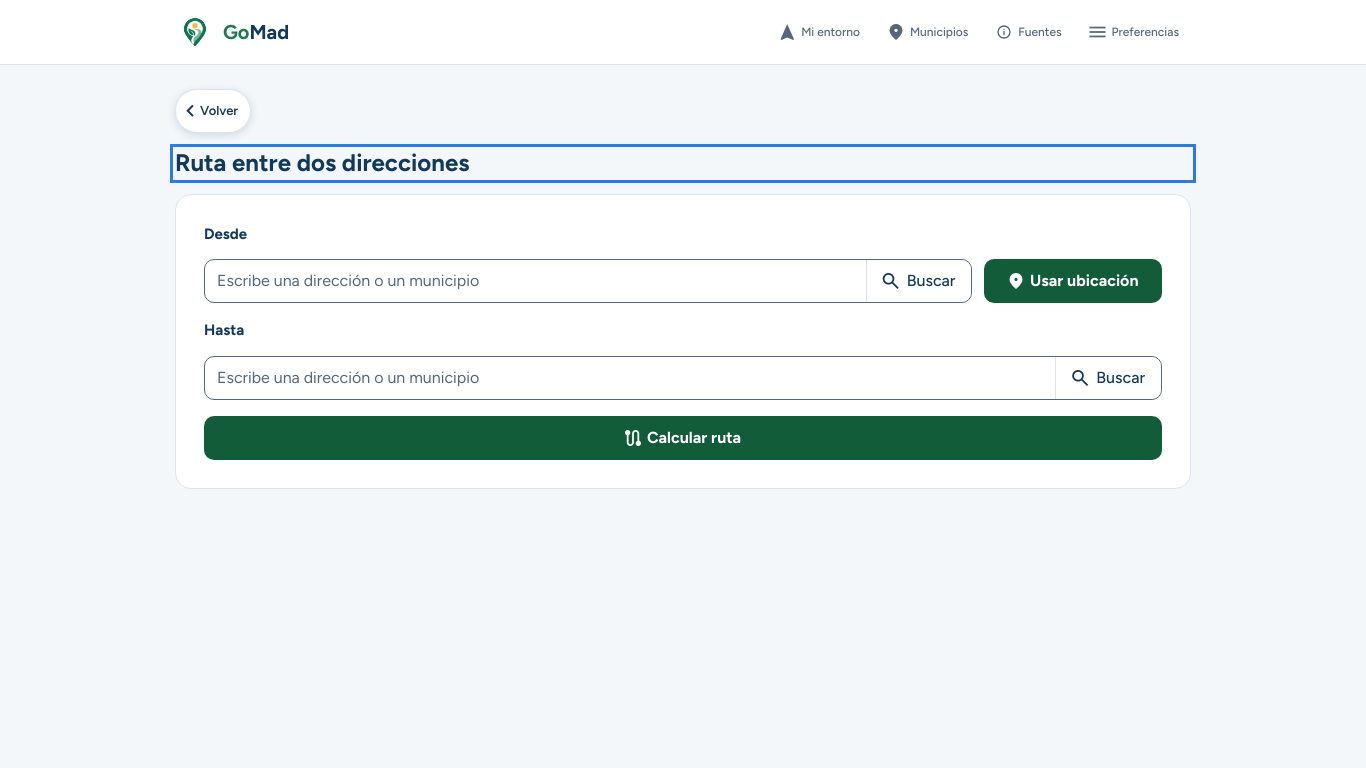
Test: Ruta entre dos direcciones › misma direccion no calcula ruta
The width and height of the screenshot is (1366, 768).
Type "getafe" into the field labelled "Desde" at (535, 281), box left=205, top=260, right=866, bottom=302
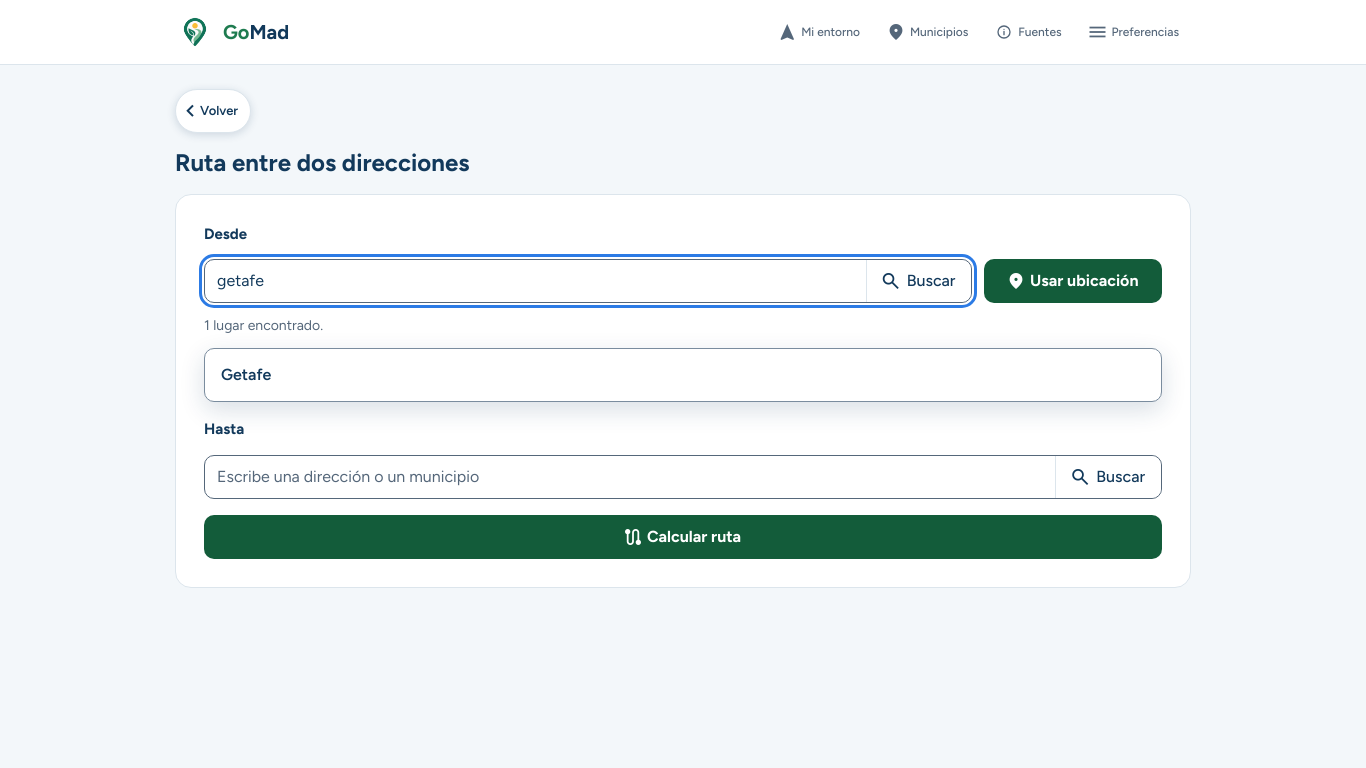
Click the button "Getafe" at (246, 375), box left=209, top=353, right=1157, bottom=397
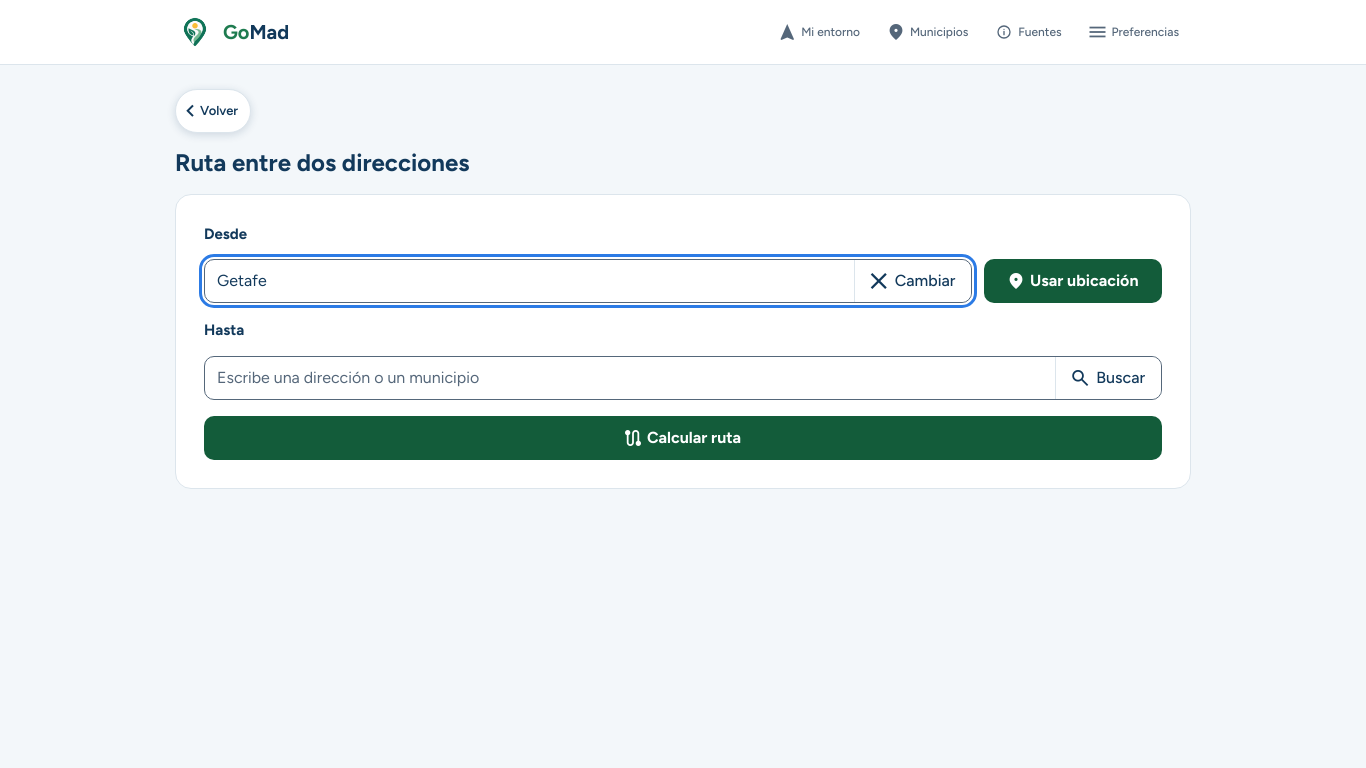
Type "getafe" into the field labelled "Hasta" at (630, 378), box left=205, top=357, right=1055, bottom=399
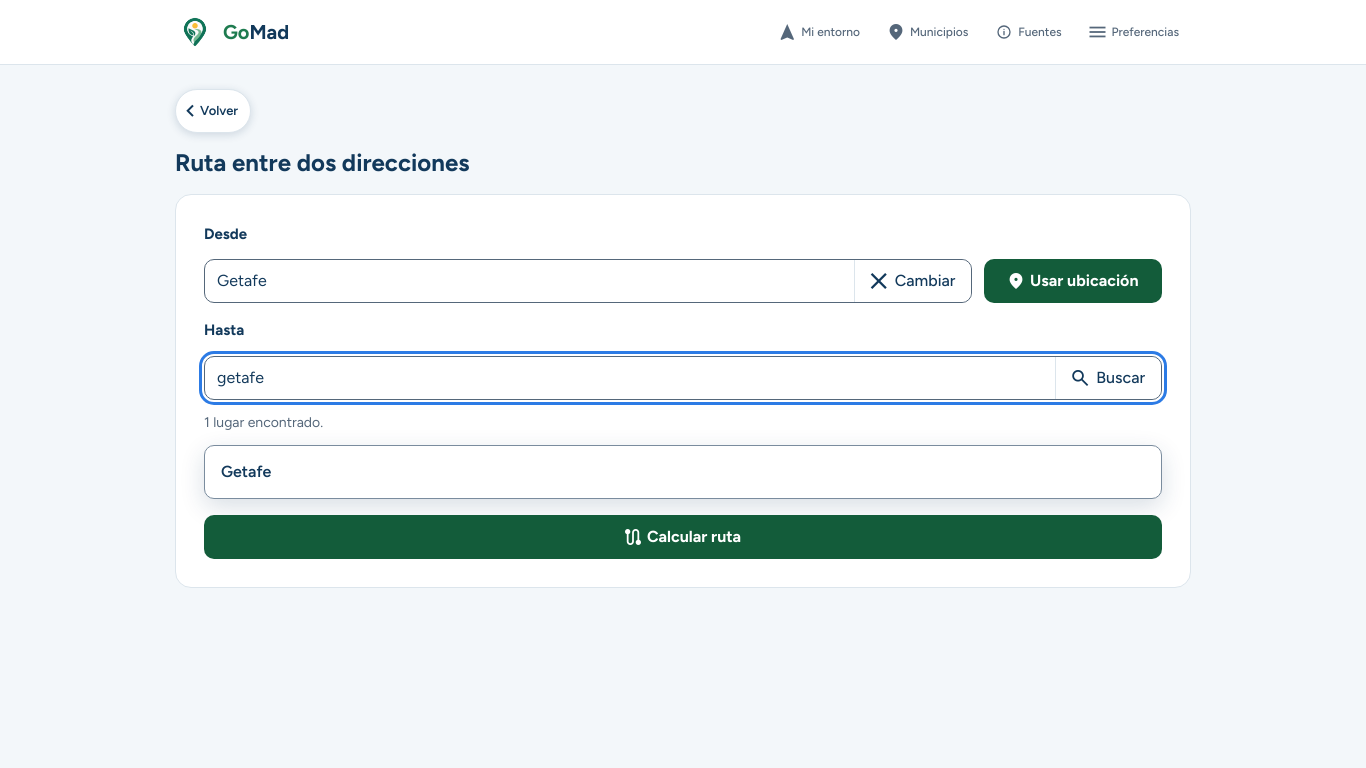
Click the button "Getafe" at (246, 471), box left=209, top=450, right=1157, bottom=494
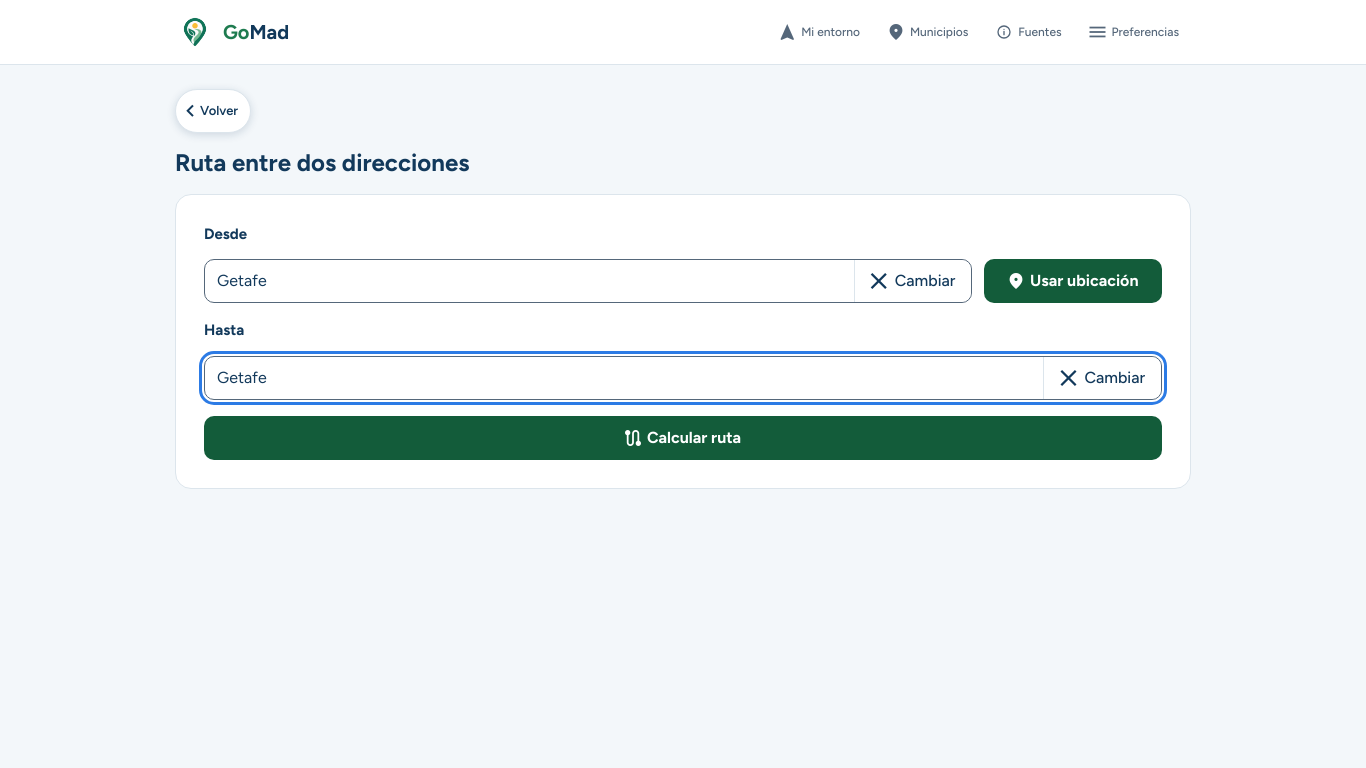
Click the button "Calcular ruta" at (683, 438), box left=204, top=416, right=1162, bottom=460
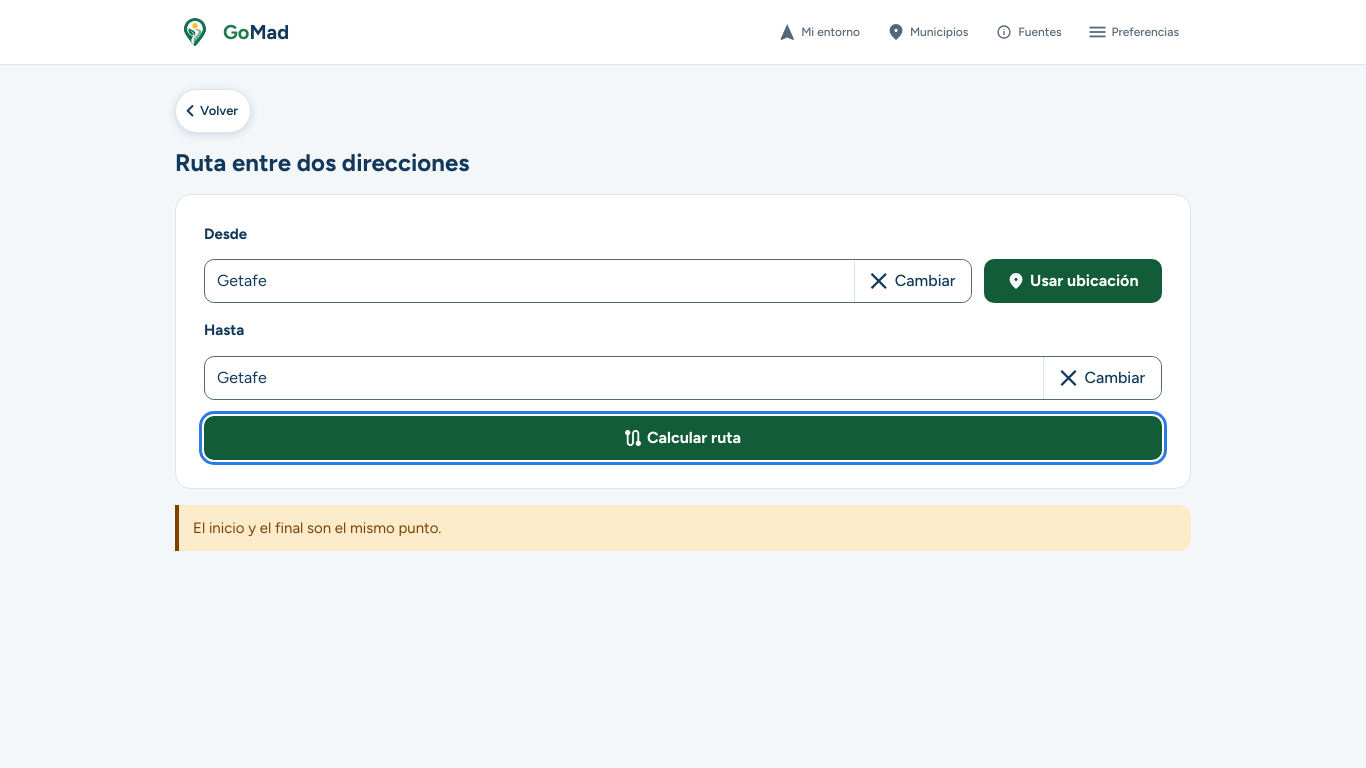
expect the text "El inicio y el final son el mismo punto." is shown: met, box left=175, top=505, right=1191, bottom=551
